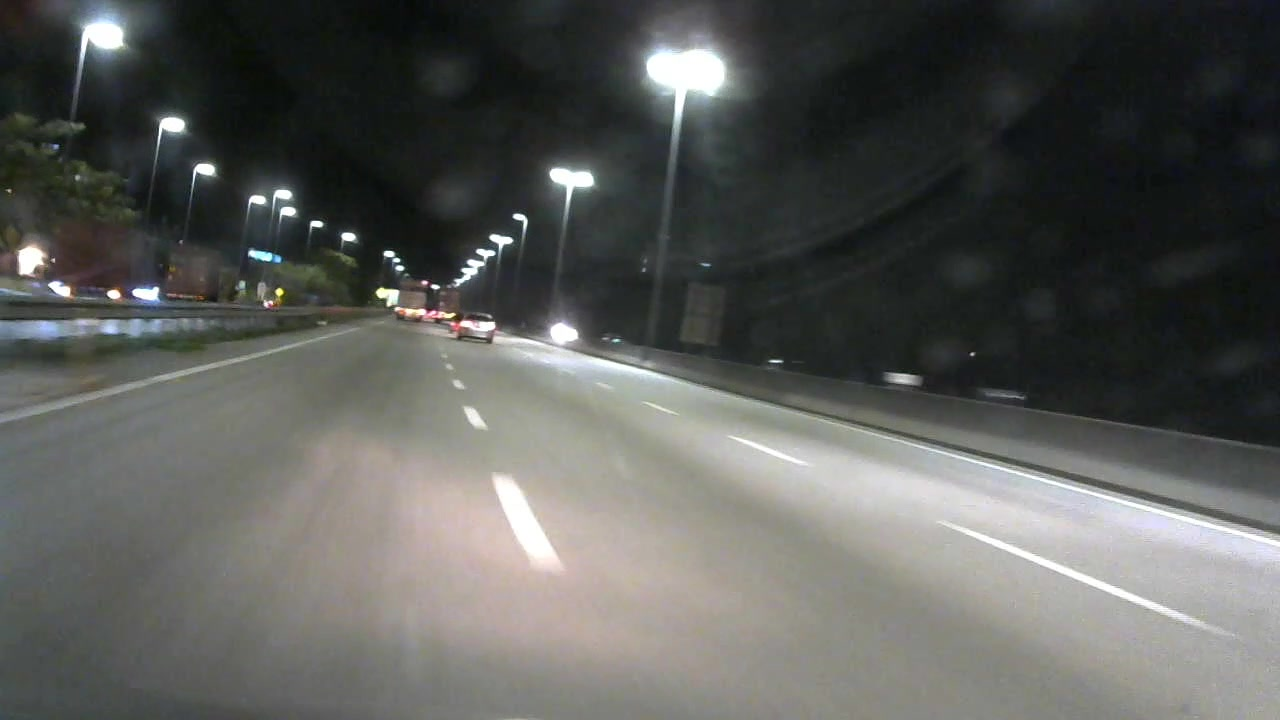Car: (456, 309, 499, 344)
